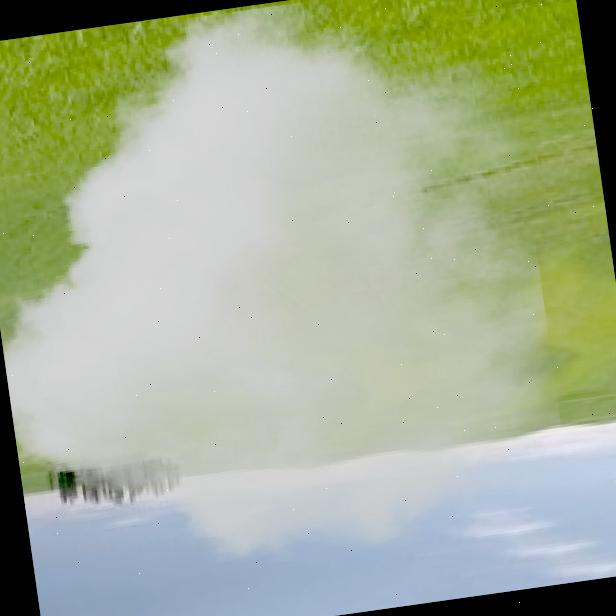smoke: (65, 193, 435, 510)
